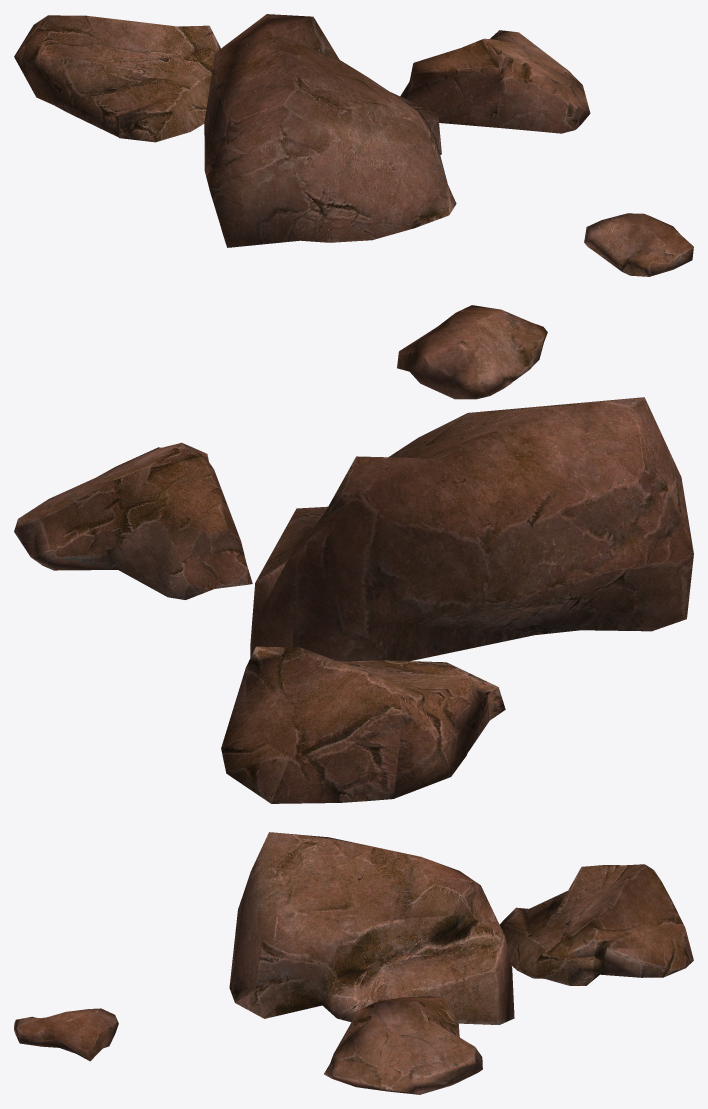
File: Rock_Stone1.glb
The picture shows the model from 3 angles, top to bottom: view 1: azimuth 30°, elevation 25°; view 2: azimuth 150°, elevation 25°; view 3: azimuth 270°, elevation 25°; orthographic projection. The views are drawn at different scales.
Visible parts, largest first — view 1: xiutz_stone1; view 2: xiutz_stone1; view 3: xiutz_stone1.
Part boxes in pixels (<box>): xiutz_stone1: <box>14,14,693,276</box>; xiutz_stone1: <box>14,305,693,803</box>; xiutz_stone1: <box>14,832,693,1094</box>.
Bounding box in the file's own units: 8.89 × 3.18 × 13.8.
Materials: 1 (1 with a texture image).
